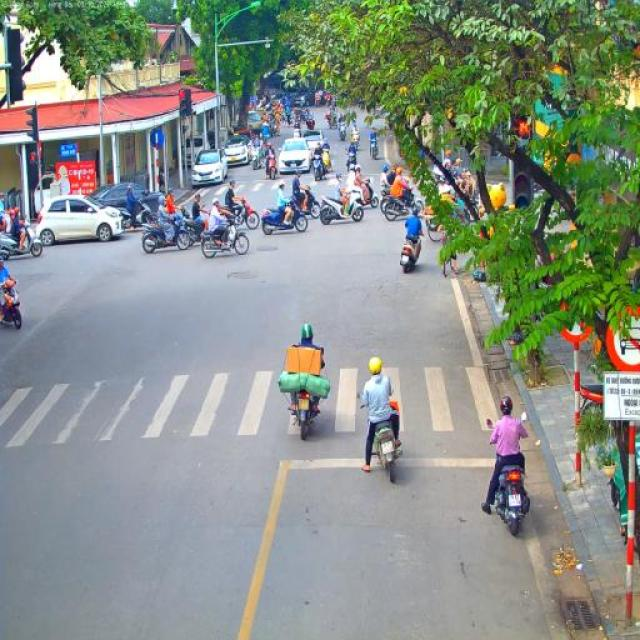car: (35, 193, 125, 247), (86, 181, 170, 227), (192, 148, 228, 186), (278, 136, 312, 176), (221, 133, 254, 166), (303, 129, 325, 157), (287, 90, 304, 106), (272, 92, 286, 108), (304, 88, 316, 104)
motorcycle: (486, 412, 532, 538), (358, 388, 402, 483), (286, 346, 325, 440), (200, 214, 250, 258), (141, 214, 190, 254), (320, 186, 366, 225), (0, 220, 42, 261), (261, 201, 309, 235), (380, 186, 425, 222), (456, 168, 482, 220), (174, 211, 211, 245), (220, 199, 260, 230), (0, 277, 22, 330), (119, 197, 152, 232), (398, 230, 424, 274), (292, 181, 322, 219), (438, 188, 470, 222), (350, 178, 380, 210), (310, 153, 326, 181), (171, 202, 190, 223), (321, 148, 333, 178), (264, 156, 278, 180), (251, 146, 263, 170), (345, 149, 357, 172), (370, 138, 380, 161), (260, 132, 271, 152), (350, 130, 360, 148), (298, 112, 308, 128), (280, 112, 290, 127), (338, 124, 347, 140), (305, 118, 316, 131), (328, 116, 337, 130), (323, 96, 332, 110), (315, 96, 321, 108)
truck: (231, 110, 264, 148)
